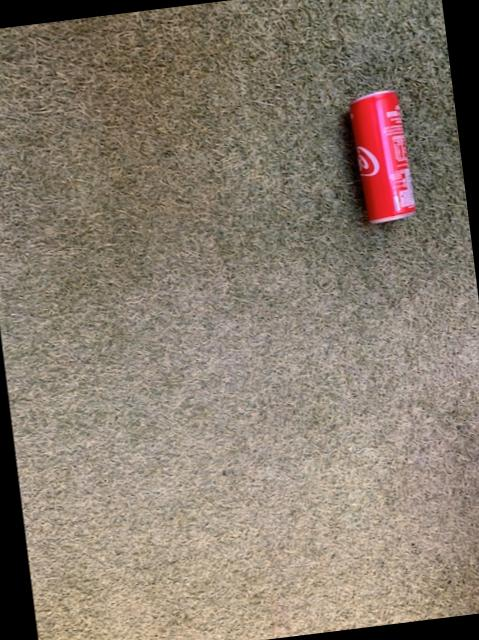metal: (348, 91, 413, 223)
